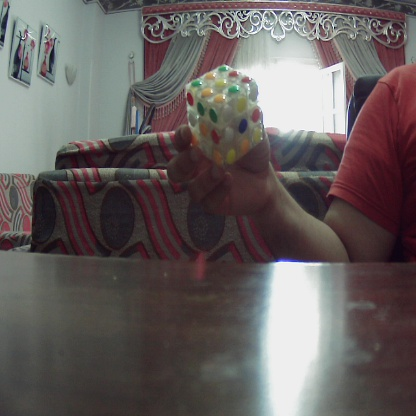Rubix Cube: (185, 65, 262, 160)
